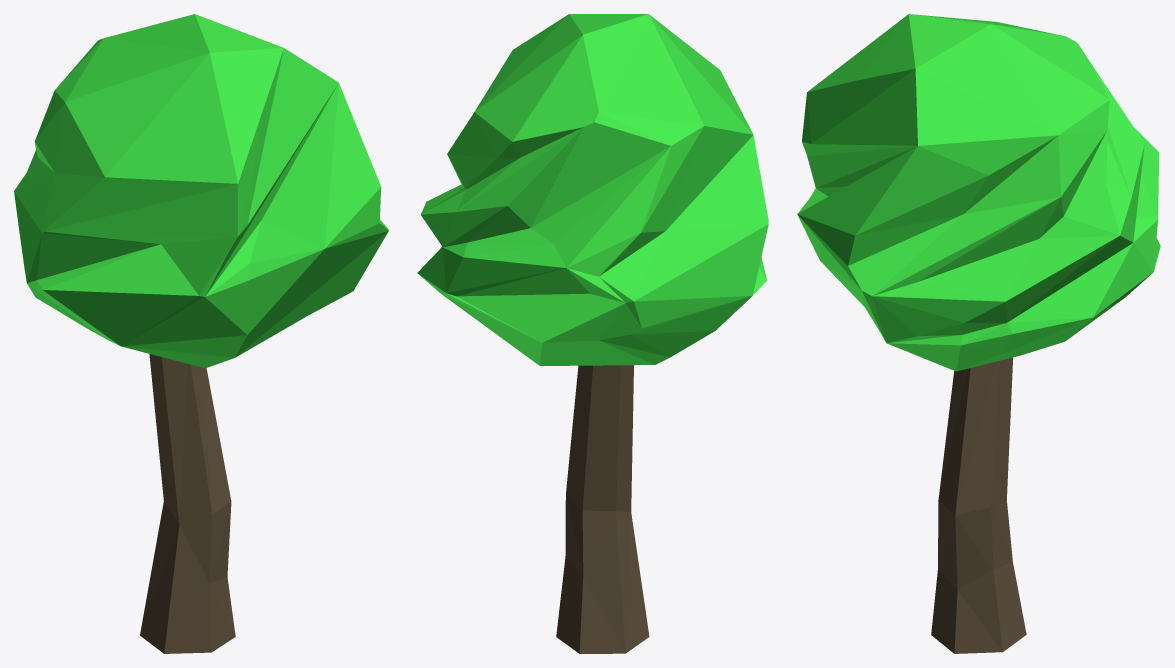
The model's file is Tree_1-col.glb.
3 views of the same model, side by side, from view 1: azimuth 30°, elevation 25°; view 2: azimuth 150°, elevation 25°; view 3: azimuth 270°, elevation 25° (orthographic). The views are drawn at different scales.
Parts seen in each view (by area): view 1: geometry_0.001; view 2: geometry_0.001; view 3: geometry_0.001.
Boxes of the visible parts, <box> form: geometry_0.001: <box>14,14,388,653</box>; geometry_0.001: <box>417,14,768,653</box>; geometry_0.001: <box>797,14,1160,653</box>.
Size of the model in its own units: 0.4174 by 0.7595 by 0.4044.
